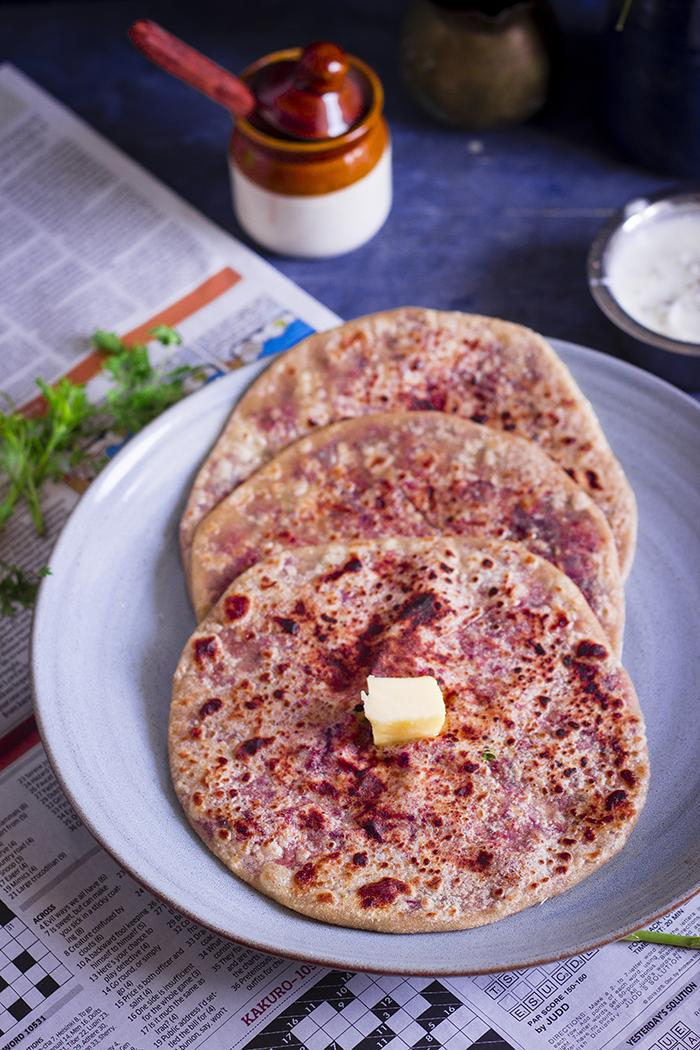paratha: (201, 518, 612, 945), (191, 386, 617, 615), (174, 307, 656, 481)
